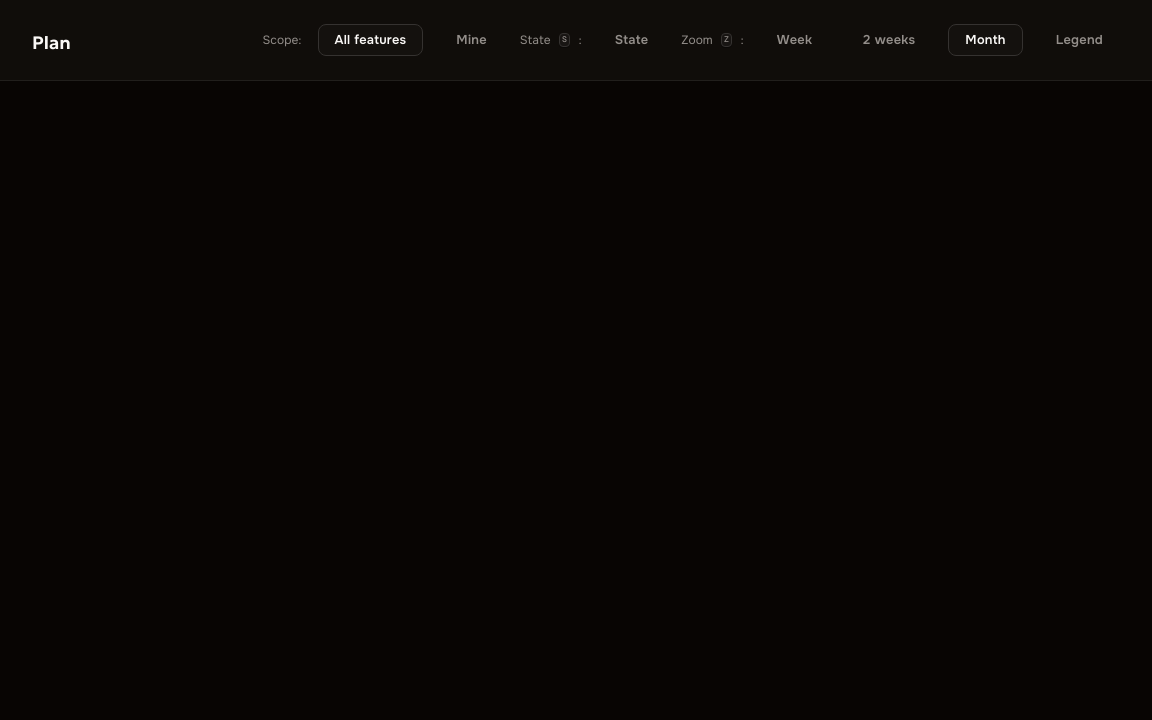
it: GanttToolbar state filter — popover open/close › closes popover on Escape key
The image size is (1152, 720).
Click the button with test id "gantt-state-filter-trigger".
click(632, 40)  # box [598,24,665,56]
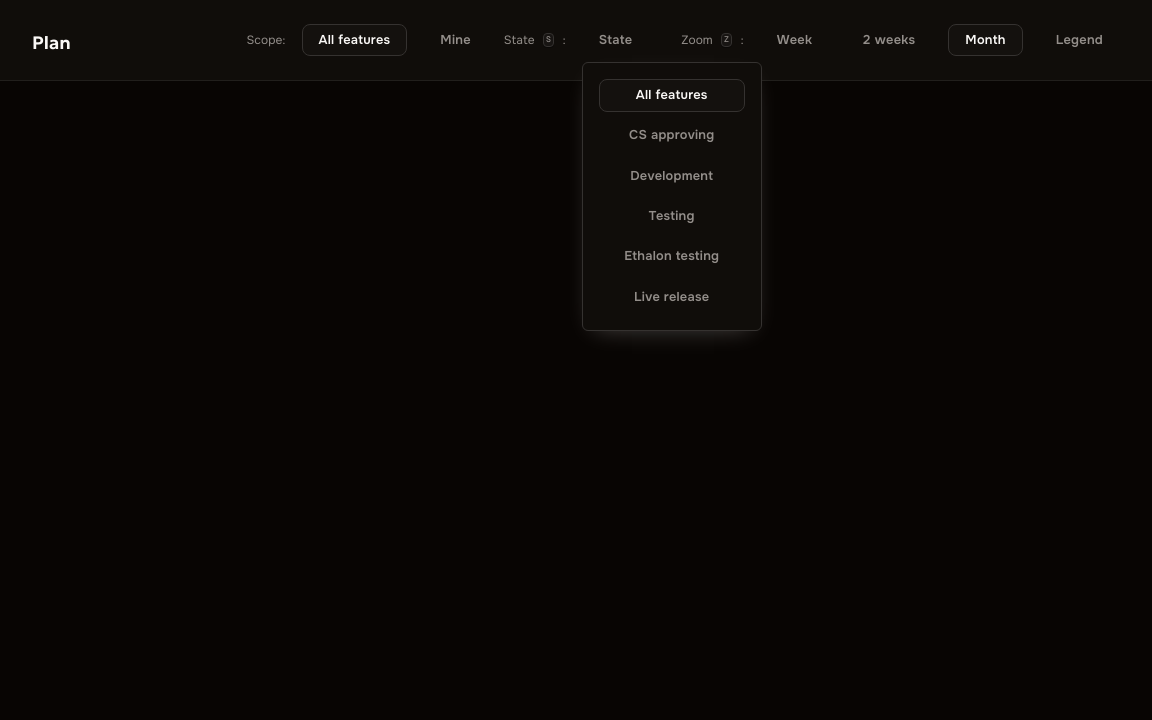
Check: the dialog with test id "gantt-state-filter-popover" is shown, box [582,62,762,331]
Press Escape
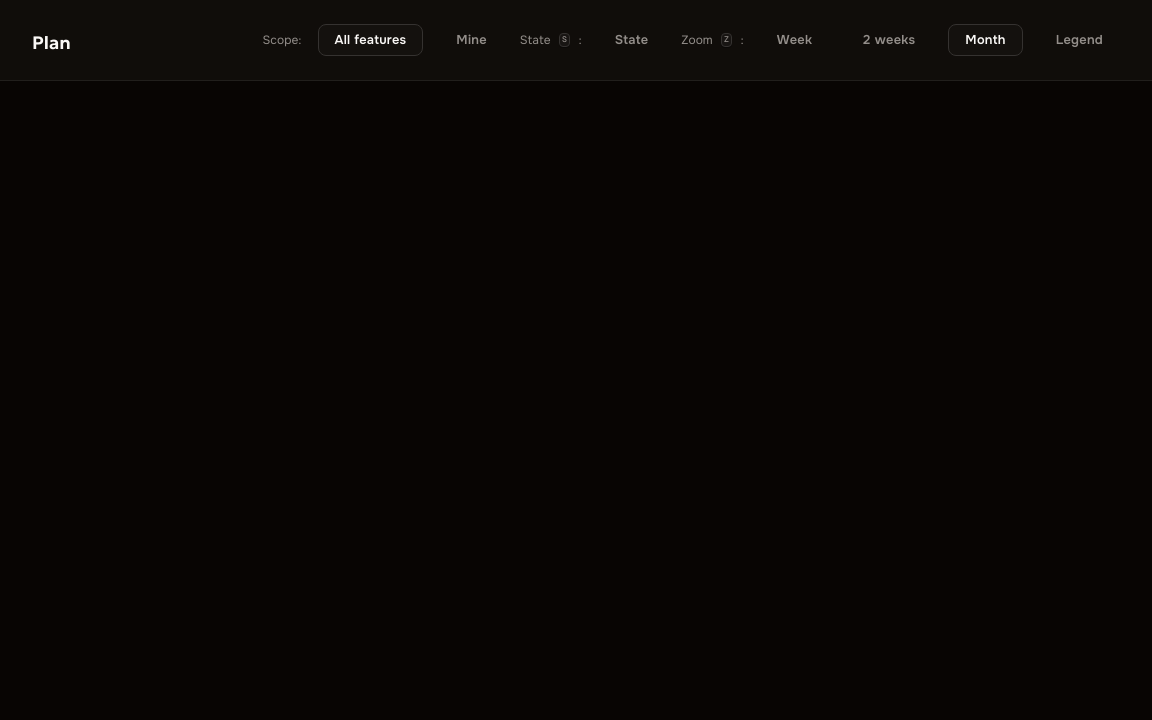
Check: the dialog with test id "gantt-state-filter-popover" is gone
